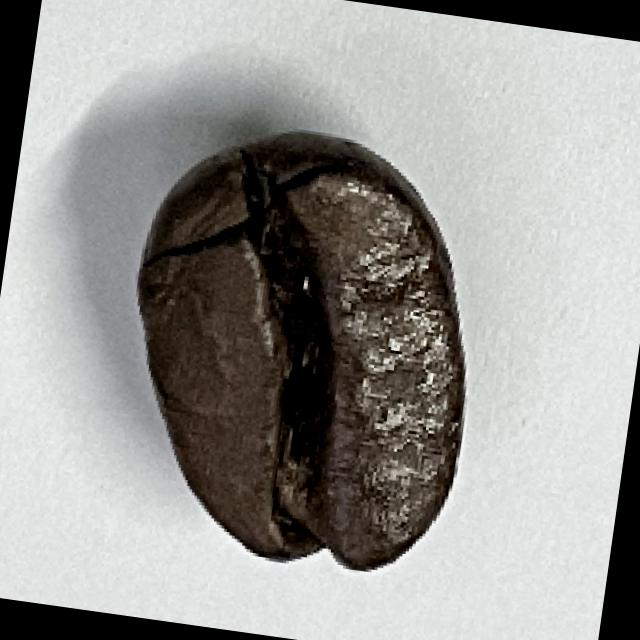bean: (94, 110, 509, 594)
